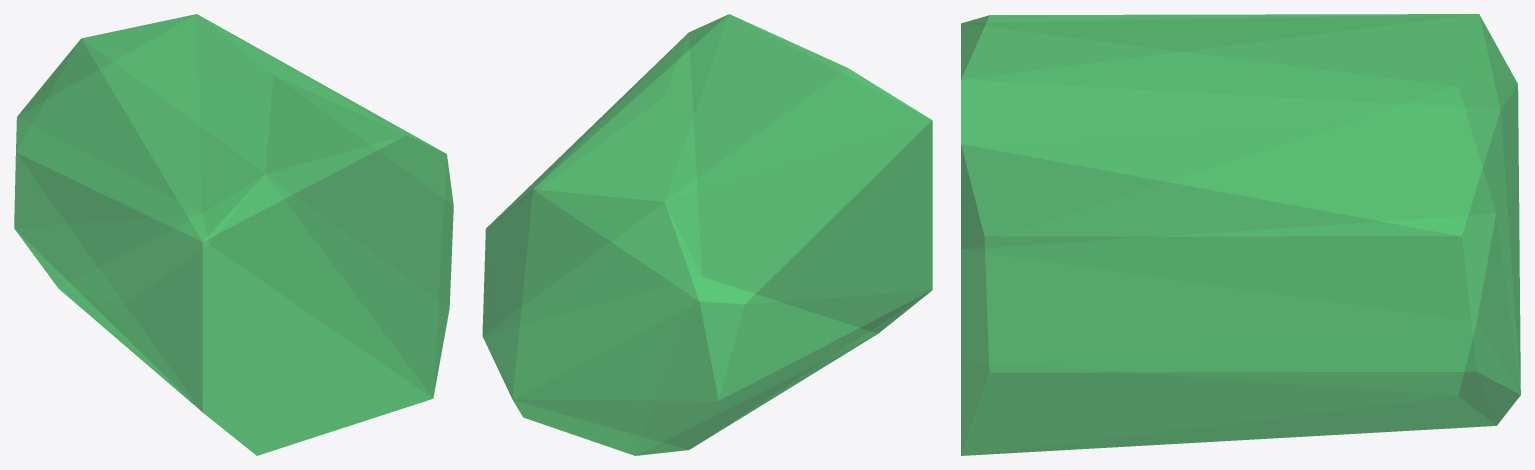
The picture shows the model from 3 angles, left to right: view 1: azimuth 30°, elevation 25°; view 2: azimuth 150°, elevation 25°; view 3: azimuth 270°, elevation 25°; orthographic projection. The views are drawn at different scales.
Visible parts, largest first — view 1: Shape_IndexedFaceSet.001_Shape_IndexedFaceSet.9291; view 2: Shape_IndexedFaceSet.001_Shape_IndexedFaceSet.9291; view 3: Shape_IndexedFaceSet.001_Shape_IndexedFaceSet.9291.
Boxes of the visible parts, left/top/right/bottom form: Shape_IndexedFaceSet.001_Shape_IndexedFaceSet.9291: left=14, top=14, right=453, bottom=455; Shape_IndexedFaceSet.001_Shape_IndexedFaceSet.9291: left=482, top=14, right=932, bottom=455; Shape_IndexedFaceSet.001_Shape_IndexedFaceSet.9291: left=961, top=14, right=1520, bottom=455.
Size of the model in its own units: 0.0879 by 0.0917 by 0.1233.
